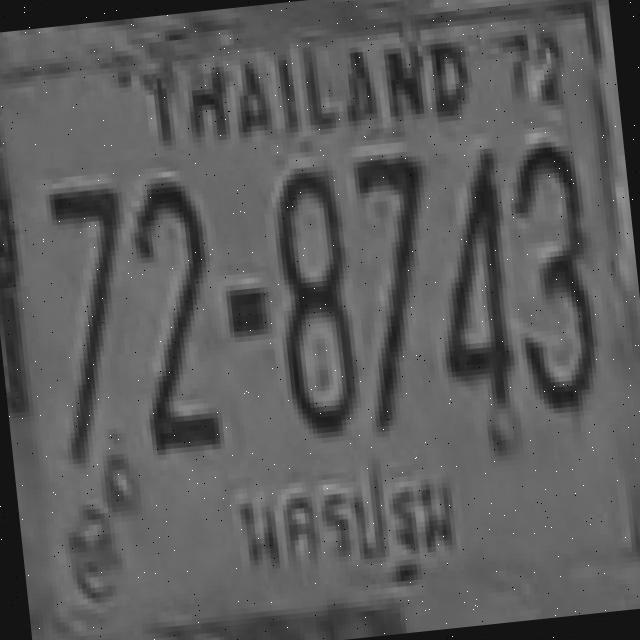2: (122, 173, 219, 420)
3: (500, 136, 600, 414)
4: (419, 142, 518, 414)
7: (348, 150, 446, 406), (42, 184, 136, 410), (349, 150, 436, 338), (46, 182, 132, 366), (349, 150, 434, 312), (46, 182, 130, 344)
8: (263, 160, 359, 436)
NakhonPathom: (227, 439, 477, 607)
